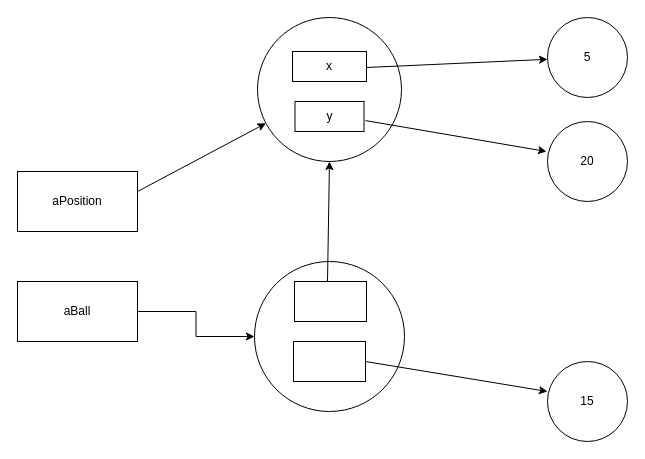
This 645x459 diagram has some shape labels left out. The box of each missing label's shape, as (x1, y1, x2, y2) in pixels:
position: (294, 280, 366, 322)
radius: (292, 340, 366, 382)
